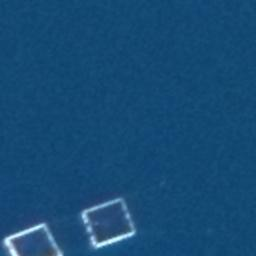square_solid: (78, 194, 141, 251), (3, 220, 65, 256)
